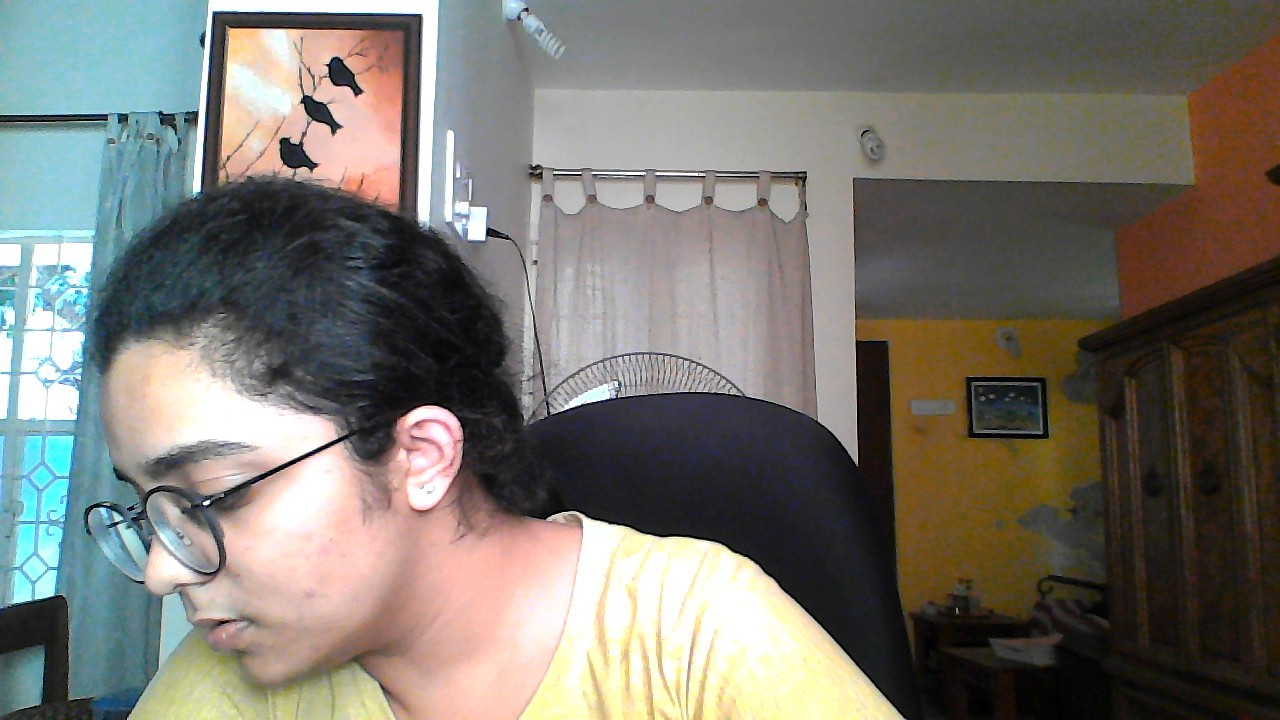person: (39, 135, 613, 720)
